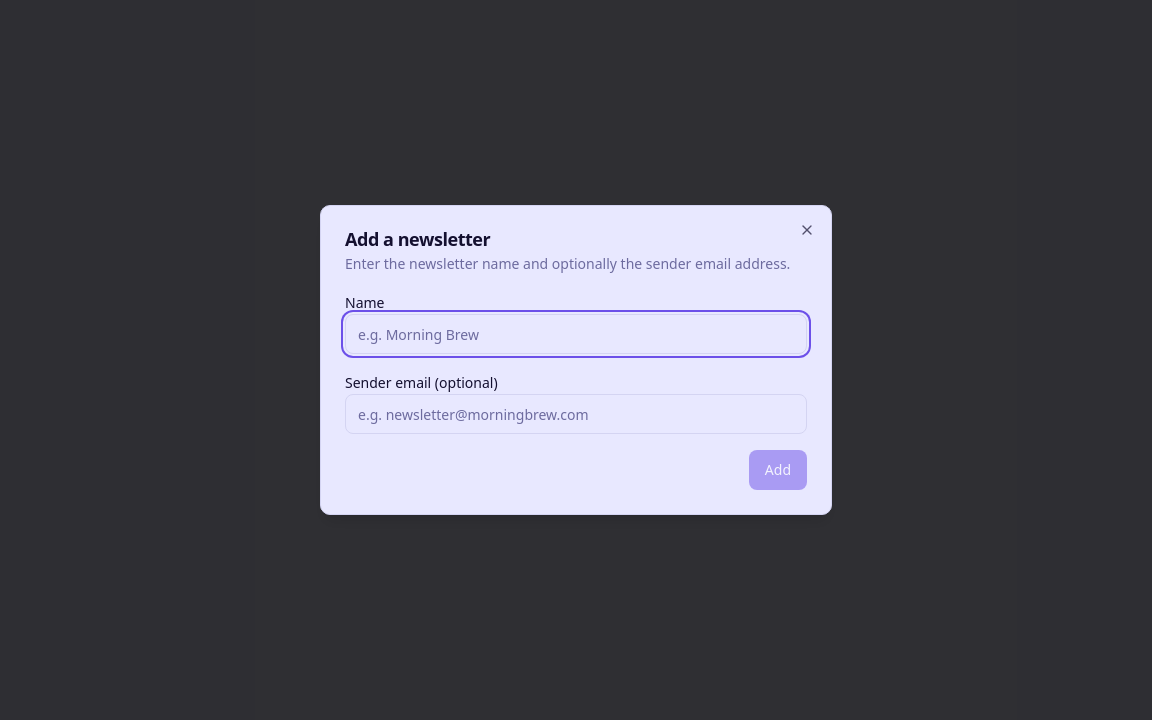
Test: AddNewsletterModal › shows error on failed submit
Type "Test" into the field labelled "Name". click: (576, 334)
box: [345,314,807,354]
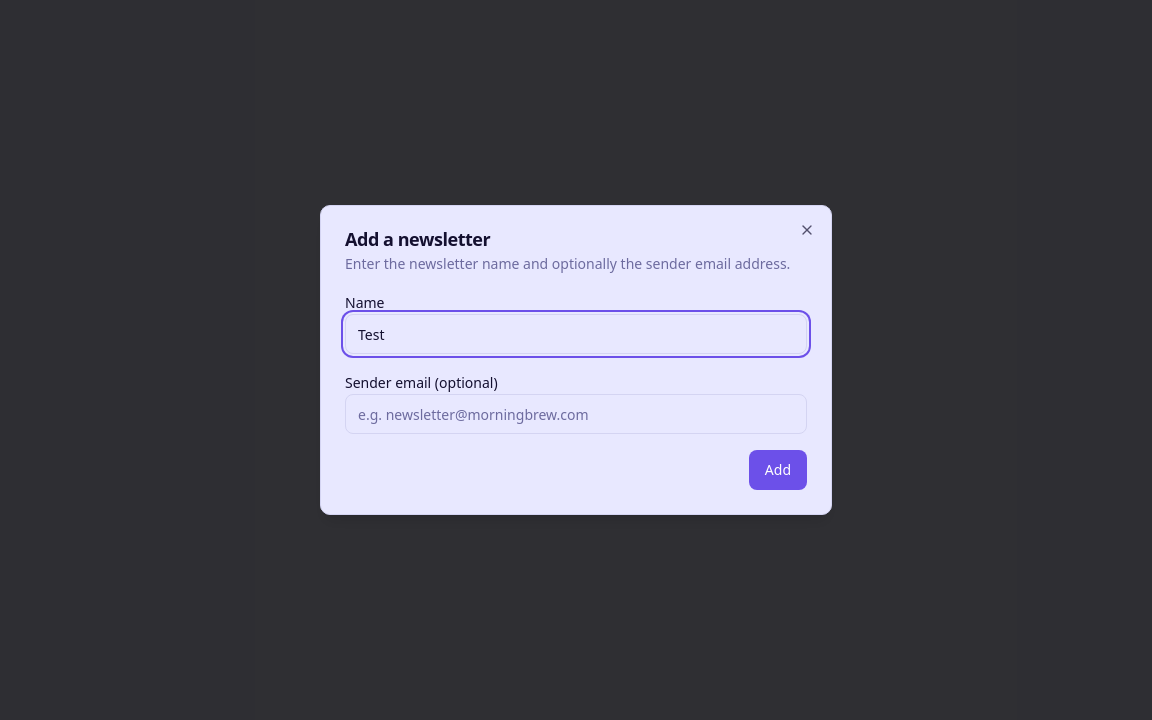
Click the button "Add". click: (778, 470)
box: [749,450,807,490]
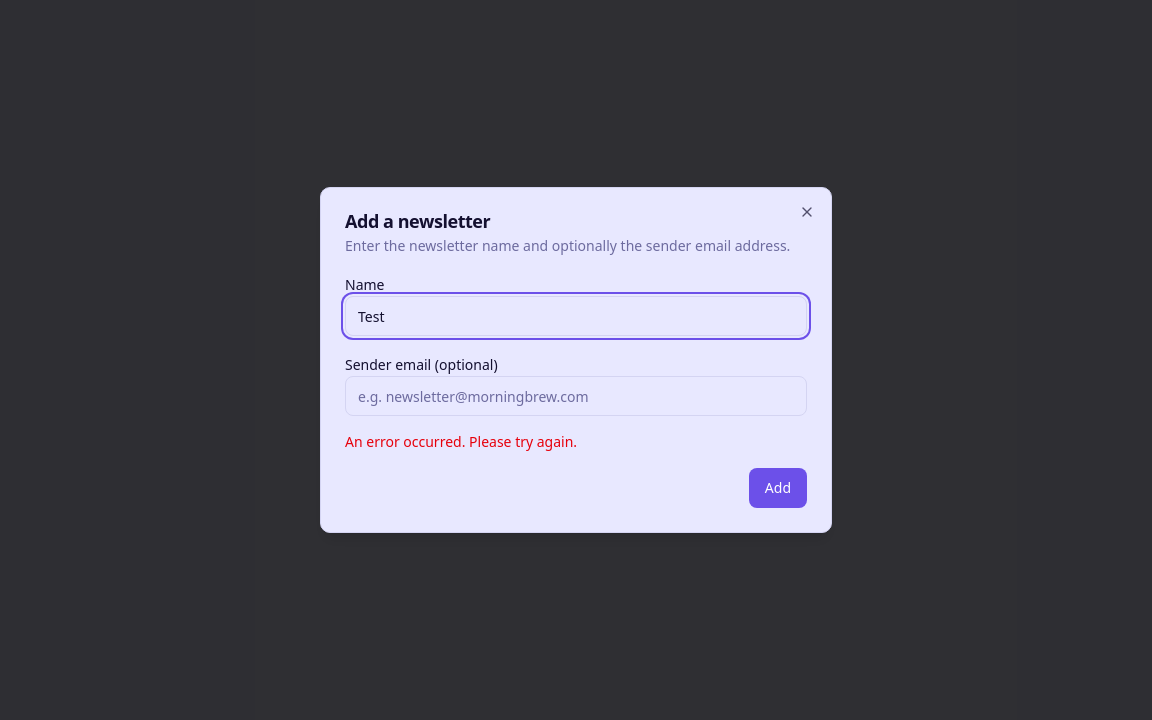
Check: the text "An error occurred. Please try again." is shown, box [345,432,577,451]
